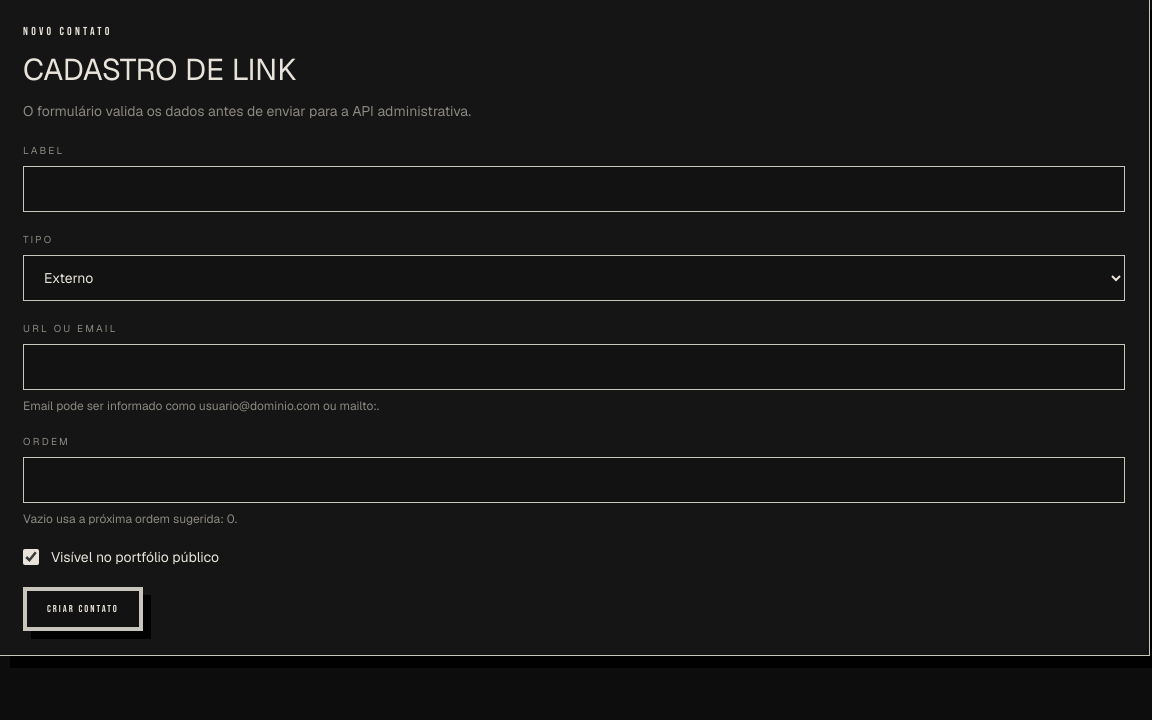
Scenario: ContactLinkForm › shows validation errors without clearing user input
The width and height of the screenshot is (1152, 720).
Type "GitHub" into the field labelled "Label" at (574, 189), box [23,166,1125,212]
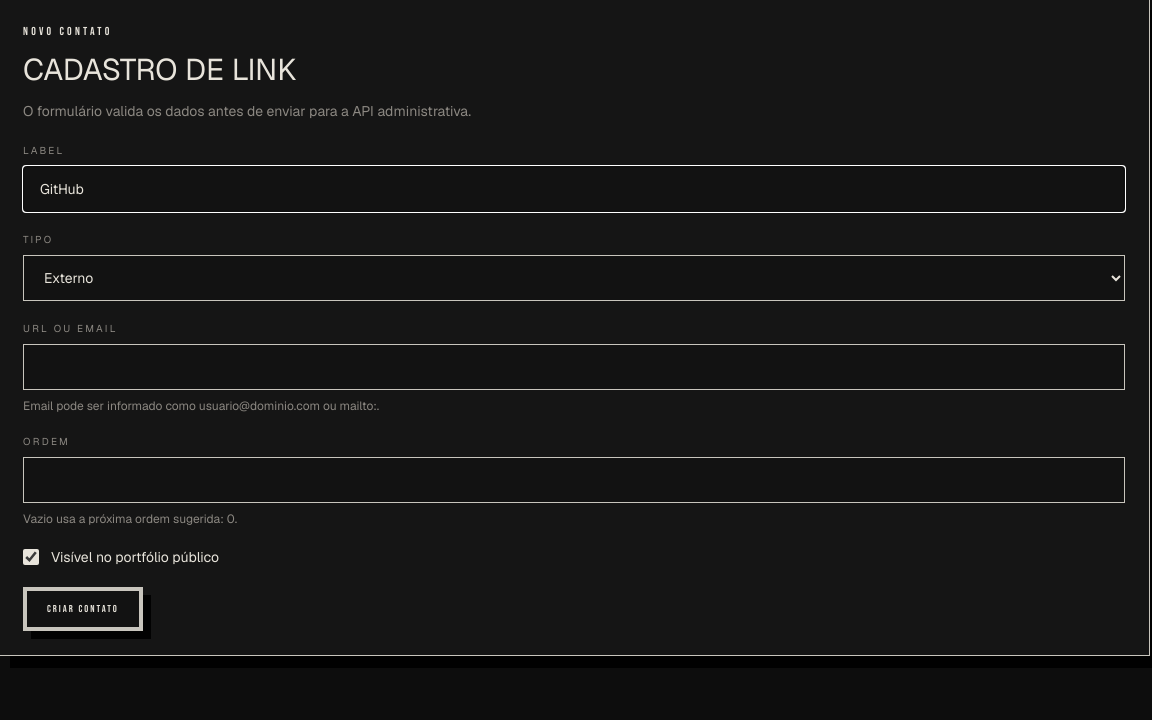
Type "github.com/user" into the field labelled "URL ou email" at (574, 367), box [23,344,1125,390]
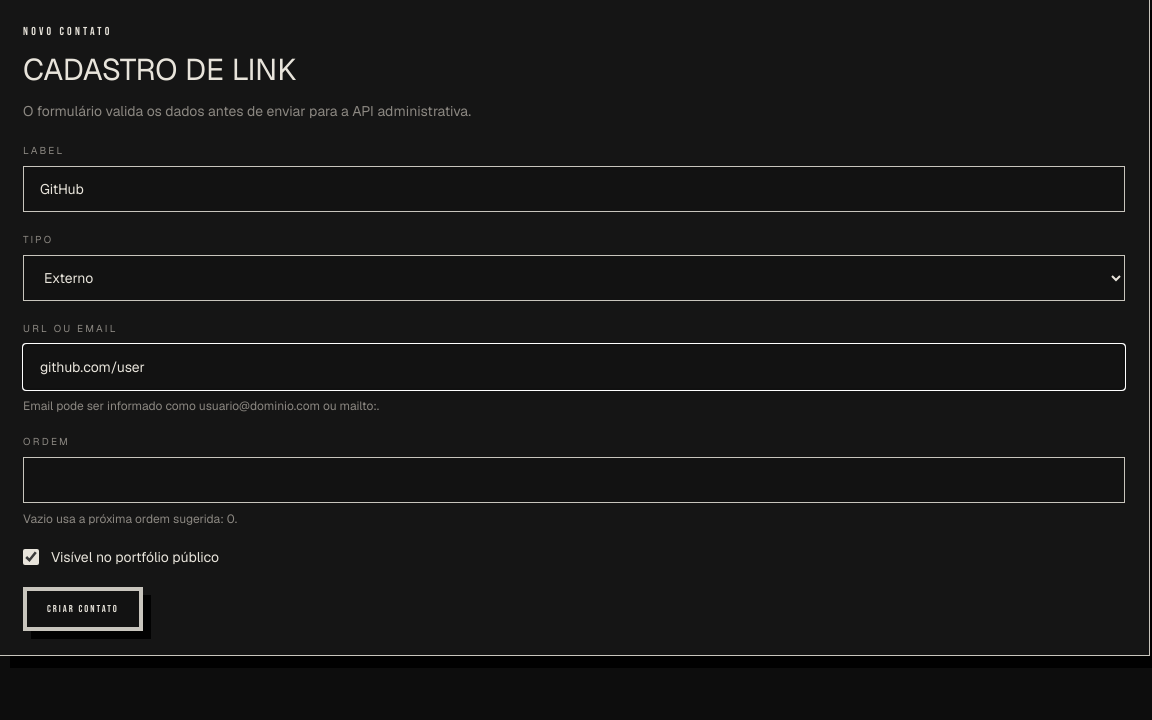
Click the button "Criar contato" at (83, 609), box [23,587,143,631]
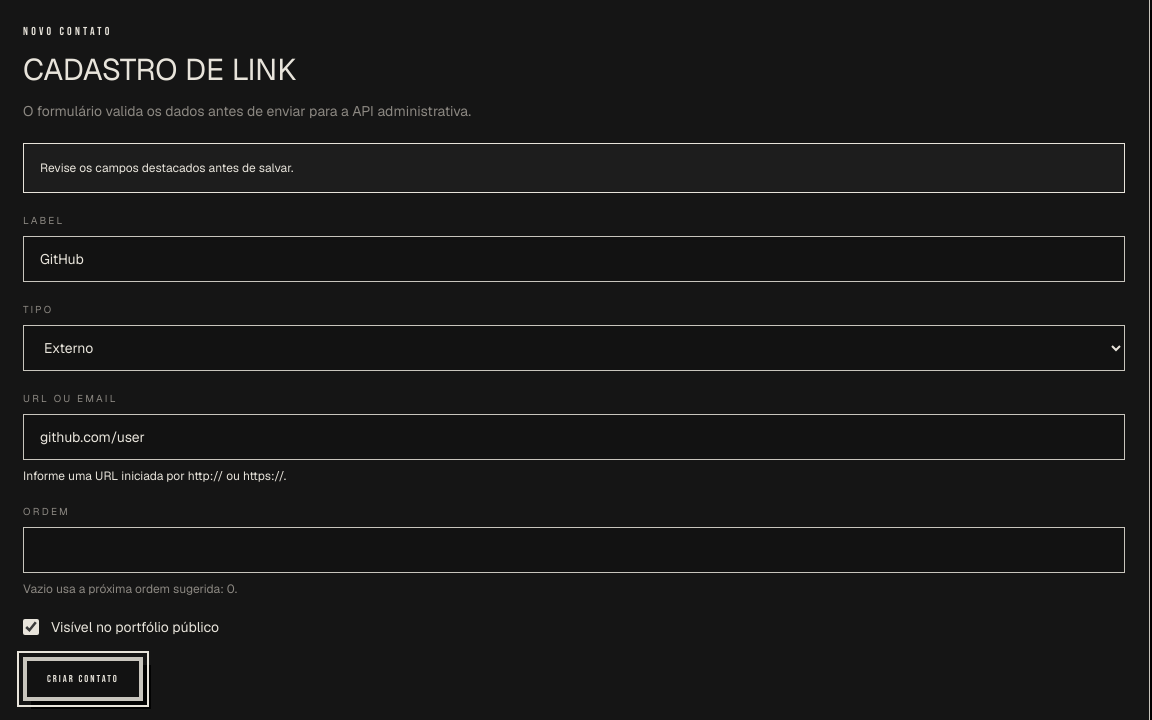
Now the message shows "Revise", box [40,160,293,176]
